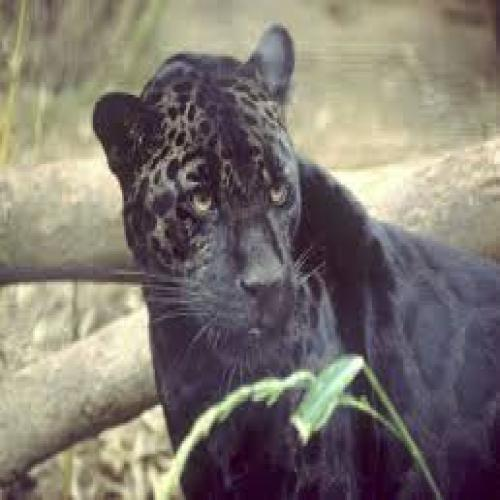panther-endangered: (99, 38, 498, 500)
